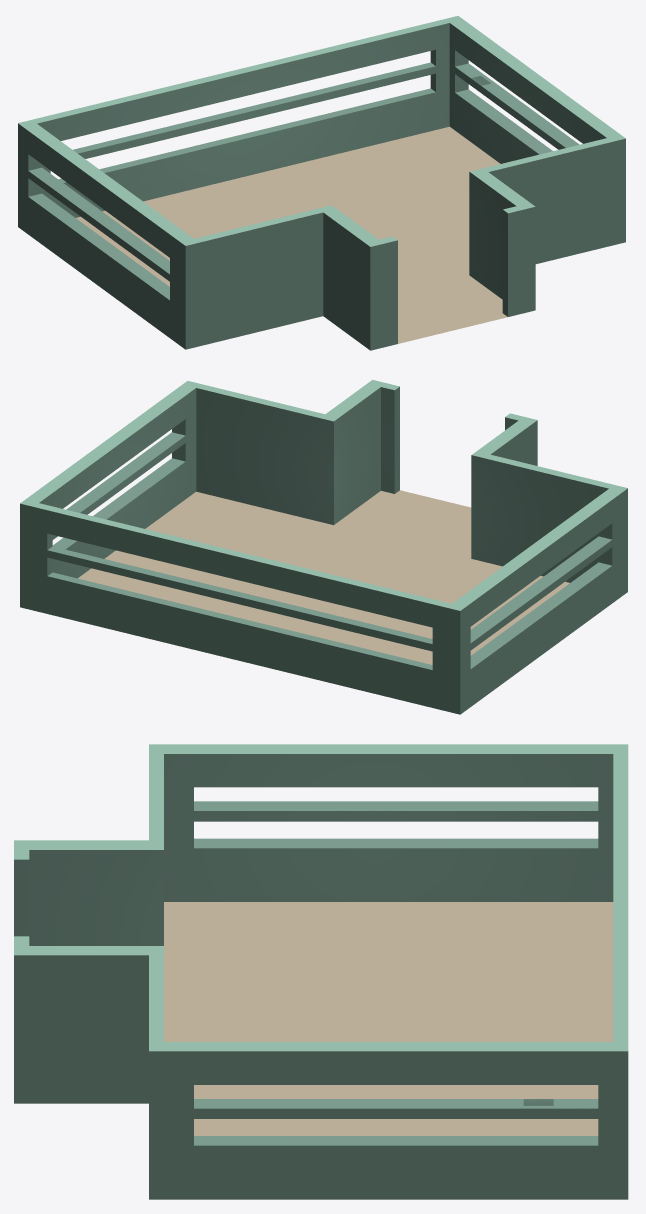
The model's file is museum_minimal_XS.gltf.
3 views of the same model, one above another, from view 1: azimuth 30°, elevation 25°; view 2: azimuth 150°, elevation 25°; view 3: azimuth 270°, elevation 25° (orthographic). The views are drawn at different scales.
Visible parts, largest first — view 1: Plane; view 2: Plane; view 3: Plane.
Boxes of the visible parts, x1,y1,x2,y2 form: Plane: [18, 16, 625, 350]; Plane: [20, 379, 627, 714]; Plane: [14, 744, 628, 1199].
Bounding box in the file's own units: 36.32 × 8.04 × 30.39.
Materials: 4 (2 with a texture image).
